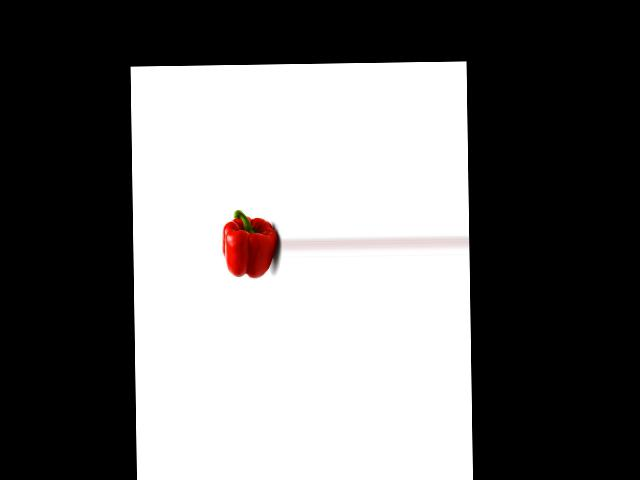bell_pepper: (222, 205, 277, 284)
